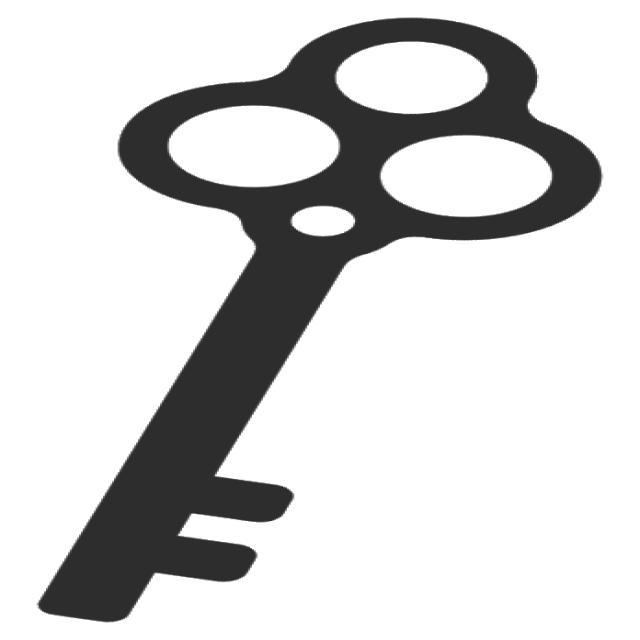key: (25, 14, 617, 638)
